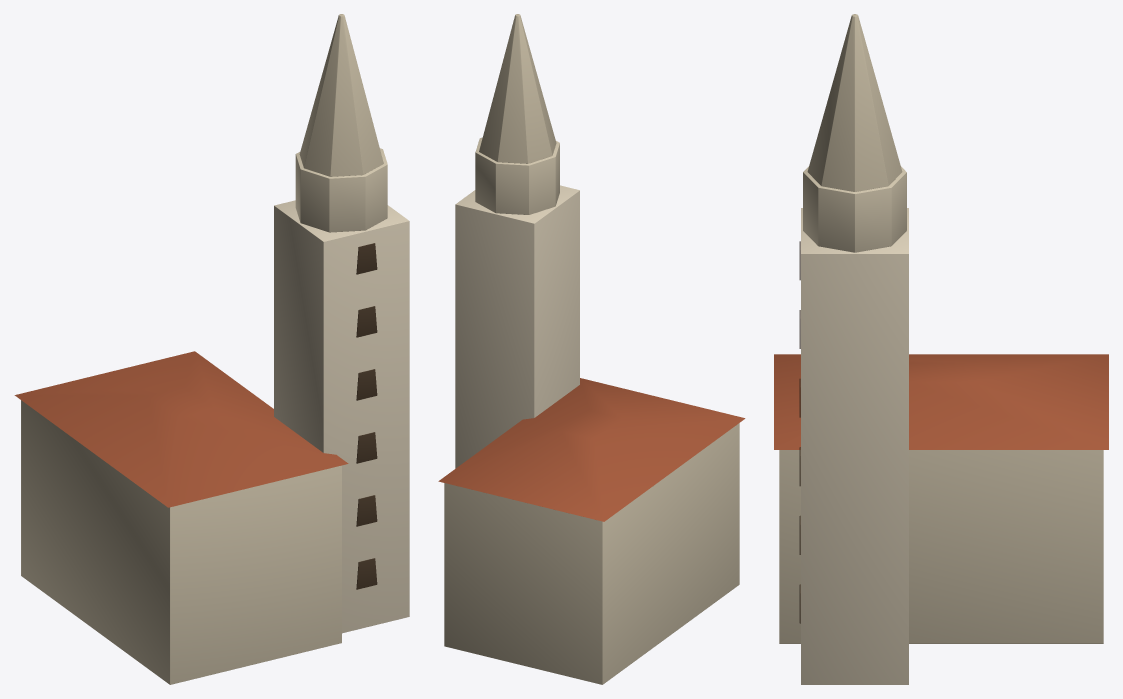
Rendered from marco_ghirlandina.glb.
The picture shows the model from 3 angles, left to right: view 1: azimuth 30°, elevation 25°; view 2: azimuth 150°, elevation 25°; view 3: azimuth 270°, elevation 25°; orthographic projection. The views are drawn at different scales.
Visible parts, largest first — view 1: marco_ghirlandina; view 2: marco_ghirlandina; view 3: marco_ghirlandina.
Part boxes in pixels (left/top/right/bottom): marco_ghirlandina: left=14, top=14, right=409, bottom=684; marco_ghirlandina: left=438, top=14, right=745, bottom=684; marco_ghirlandina: left=774, top=14, right=1108, bottom=684.
Size of the model in its own units: 29.49 by 66 by 30.97.
